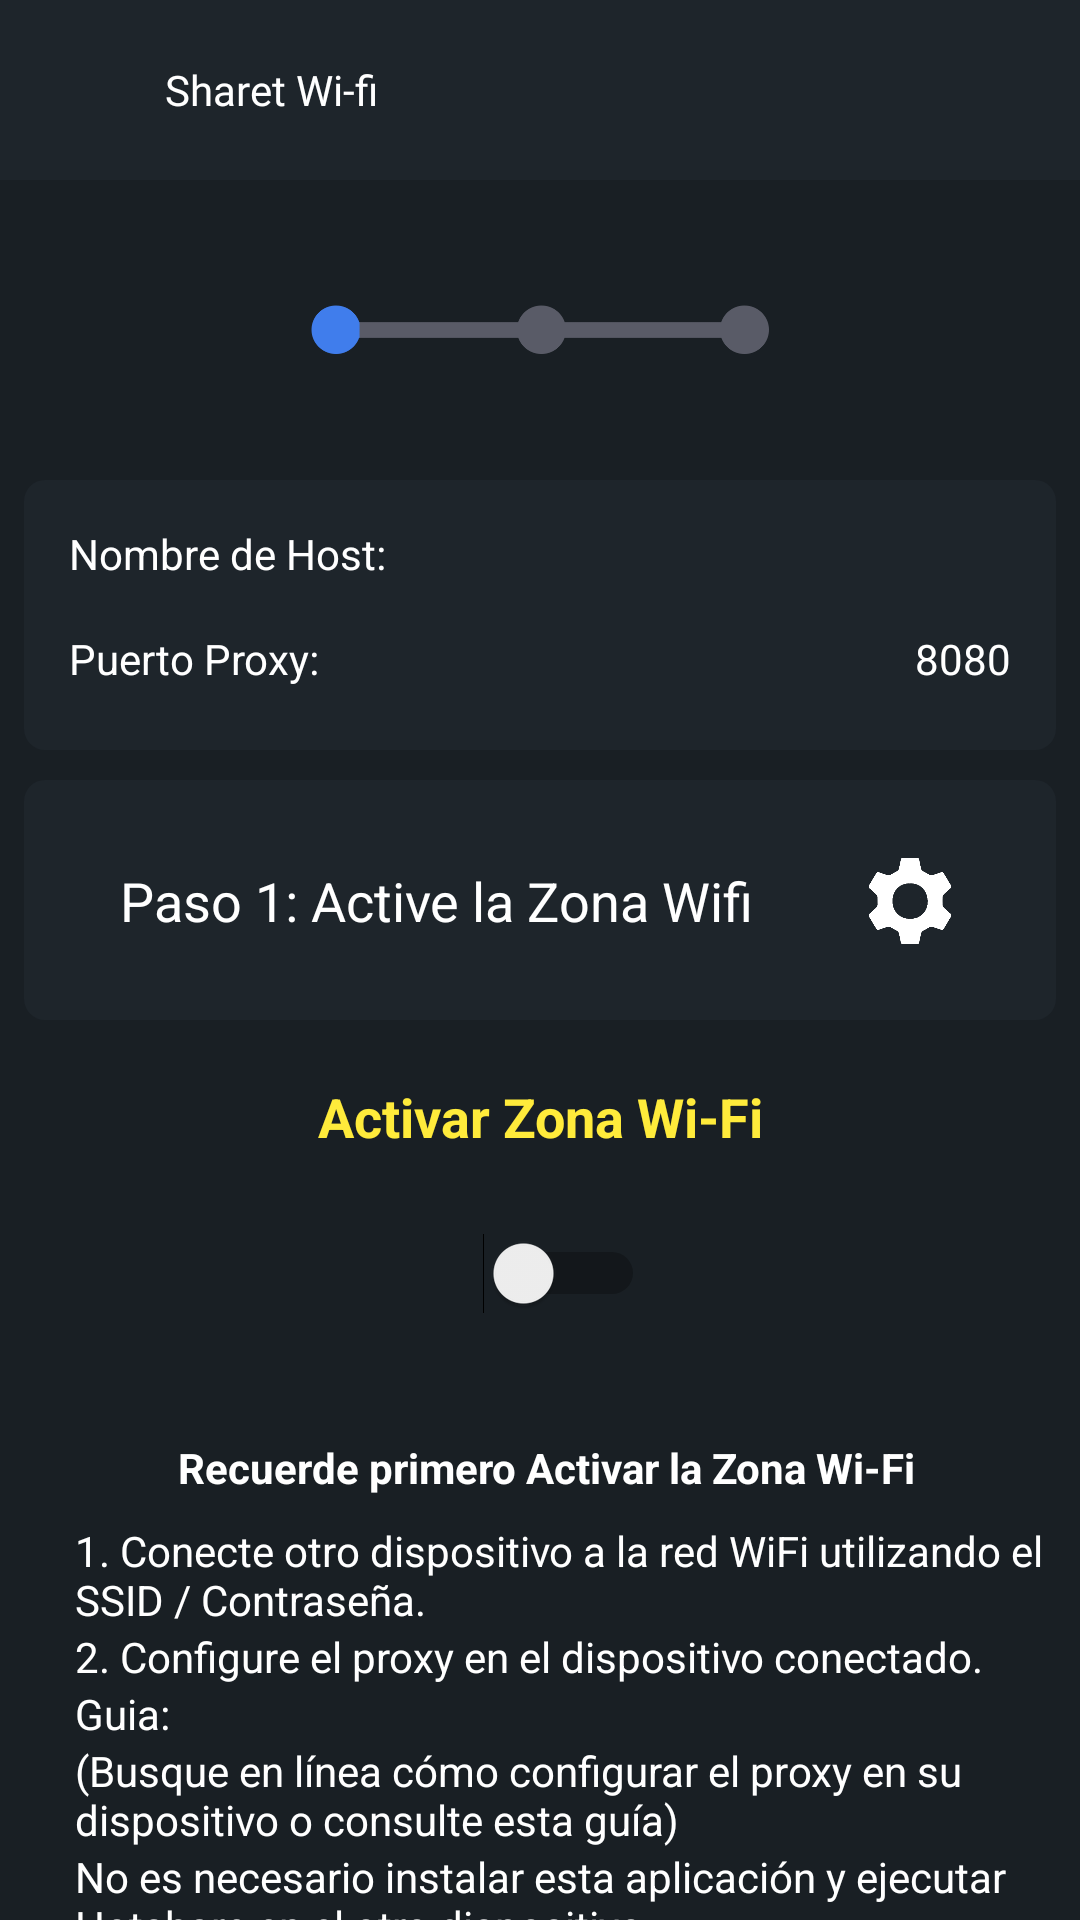

Icon click points for this 1080w x 1920h phone screenshot, format (x,y):
ajustes: (910,901)
